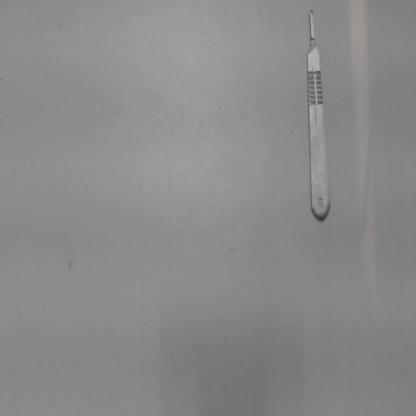No.3 BP Handle: (300, 6, 338, 232)
